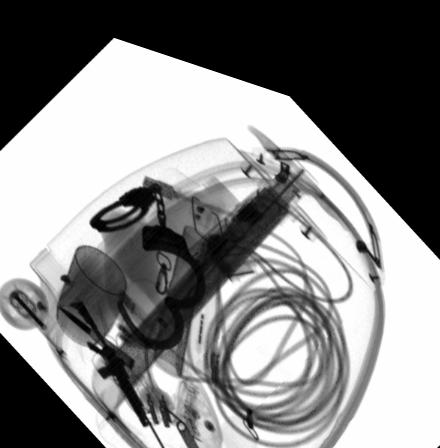Baton: (150, 213, 211, 364)
Bullet: (56, 300, 134, 361)
Gun: (69, 297, 171, 448)
HandCuffs: (84, 172, 205, 338)
